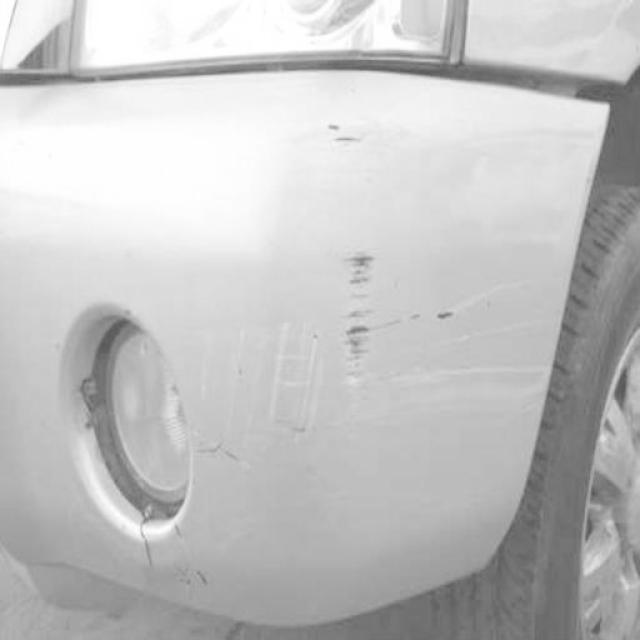car damage: (341, 247, 376, 392), (169, 514, 211, 593), (193, 437, 253, 477), (322, 119, 364, 150), (138, 507, 155, 577), (432, 305, 457, 325)
